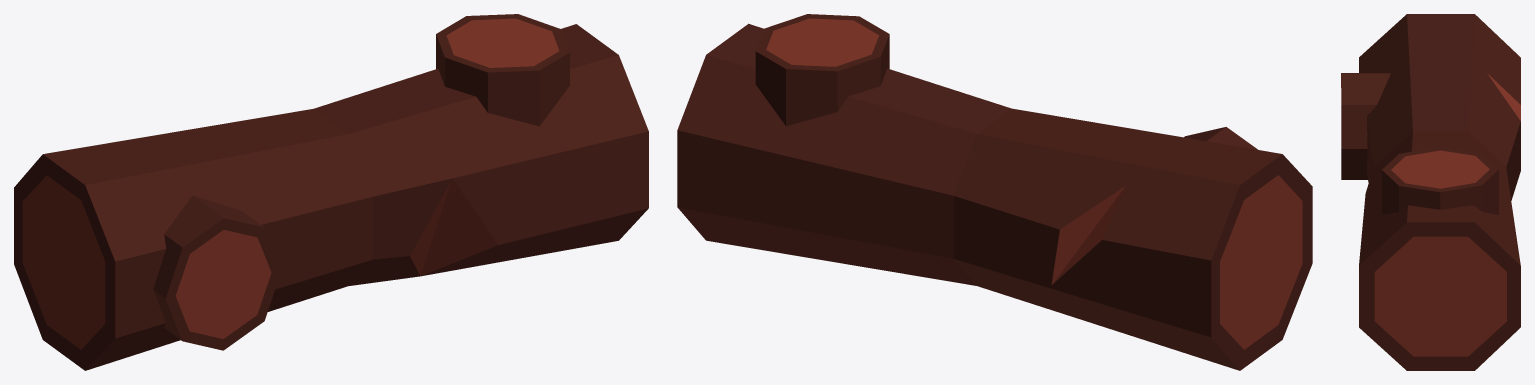
Rendered from Log_7_Red.fbx.
3 renders of one model, left to right at view 1: azimuth 30°, elevation 25°; view 2: azimuth 150°, elevation 25°; view 3: azimuth 270°, elevation 25°, orthographic. The views are drawn at different scales.
Parts seen in each view (by area): view 1: Log_7_Red; view 2: Log_7_Red; view 3: Log_7_Red.
Part boxes in pixels (bbox=[...]): Log_7_Red: bbox=[14, 14, 648, 370]; Log_7_Red: bbox=[677, 14, 1312, 370]; Log_7_Red: bbox=[1341, 14, 1520, 370].
Size of the model in its own units: 250 by 92.12 by 91.13.
